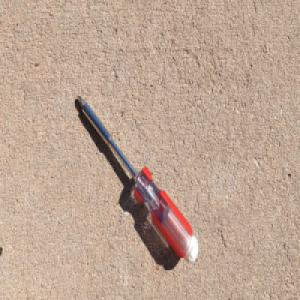Screwdriver: (75, 93, 199, 267)
